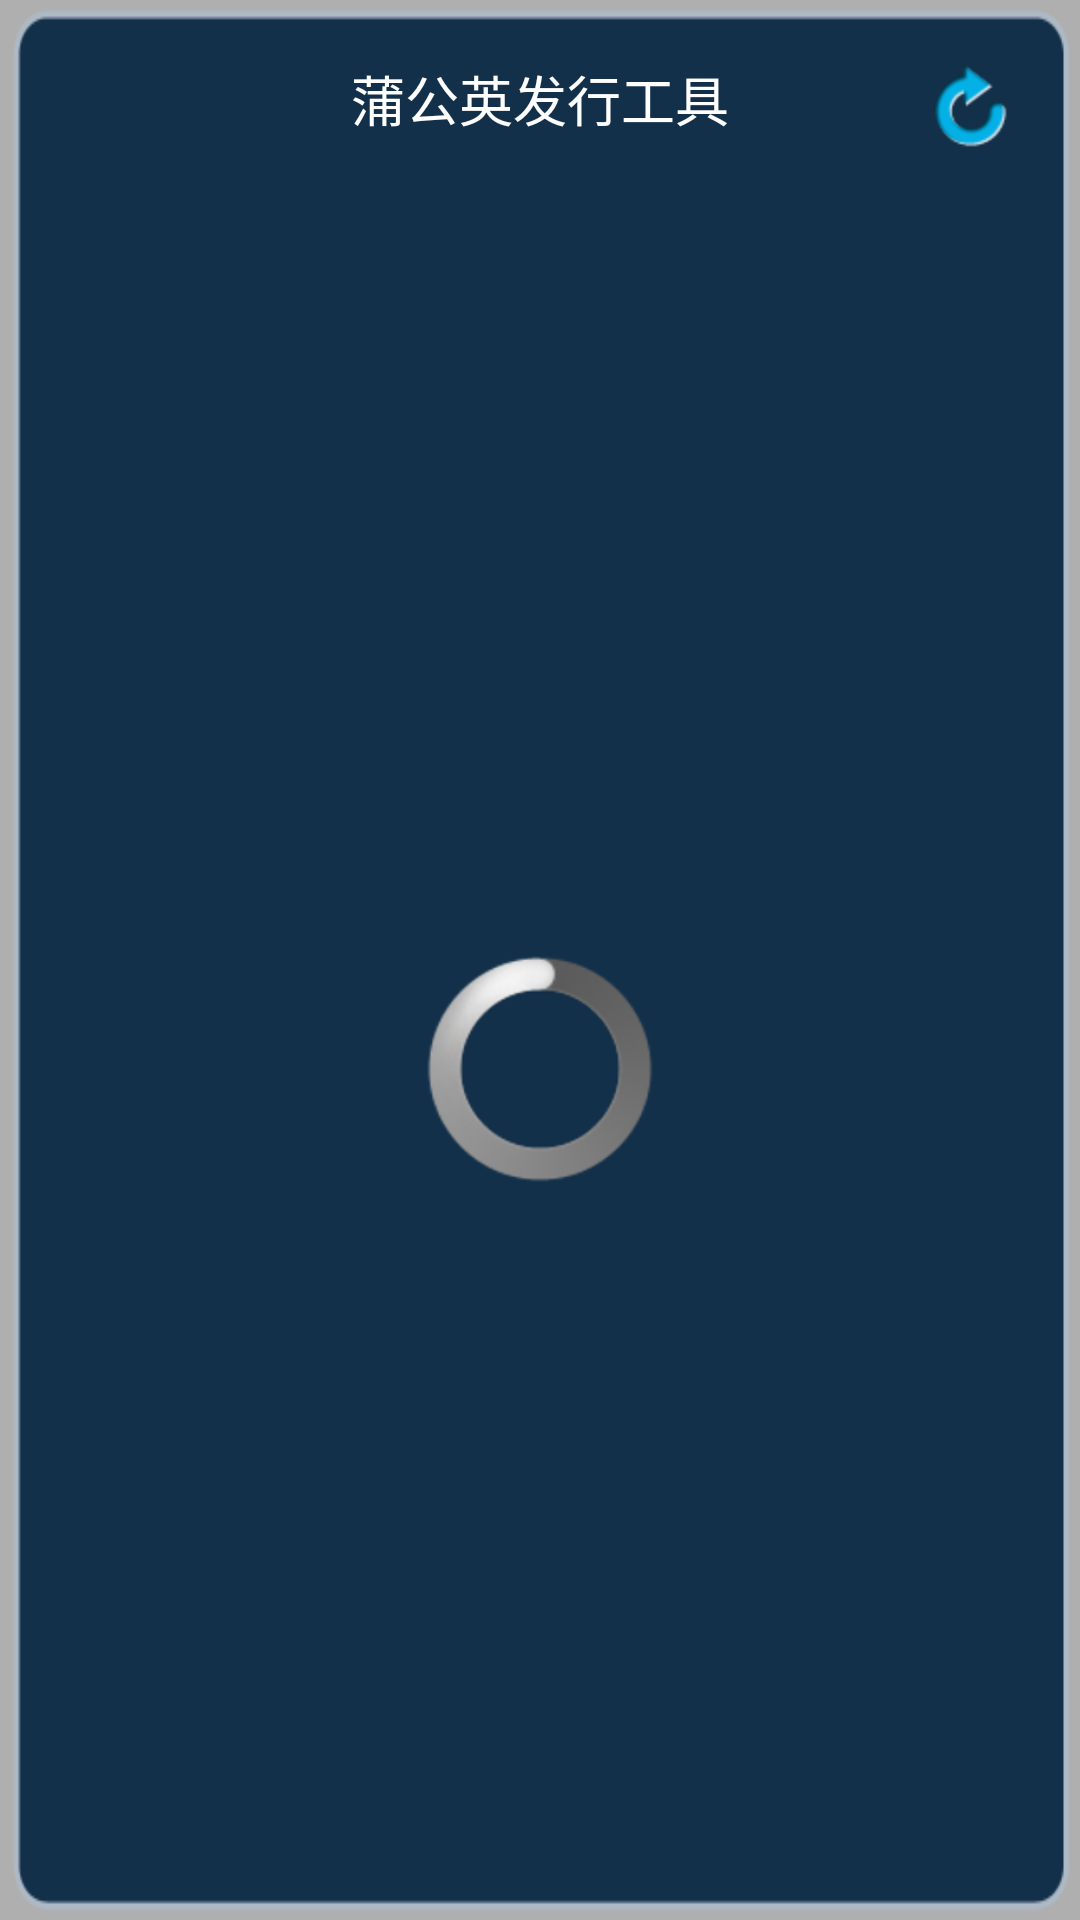

Named icons in this screenshot (1080×1920) and their centers, [x,y]:
refresh: [971,107]
